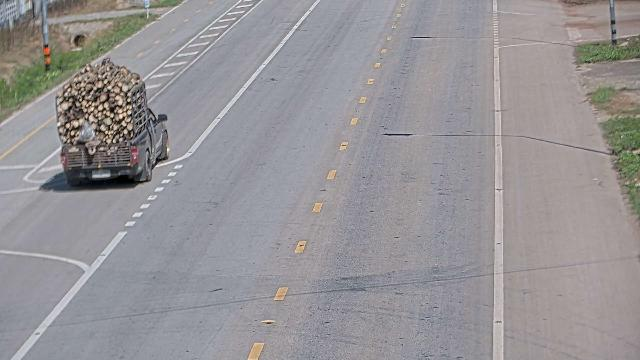pickup-truck: (54, 57, 170, 186)
